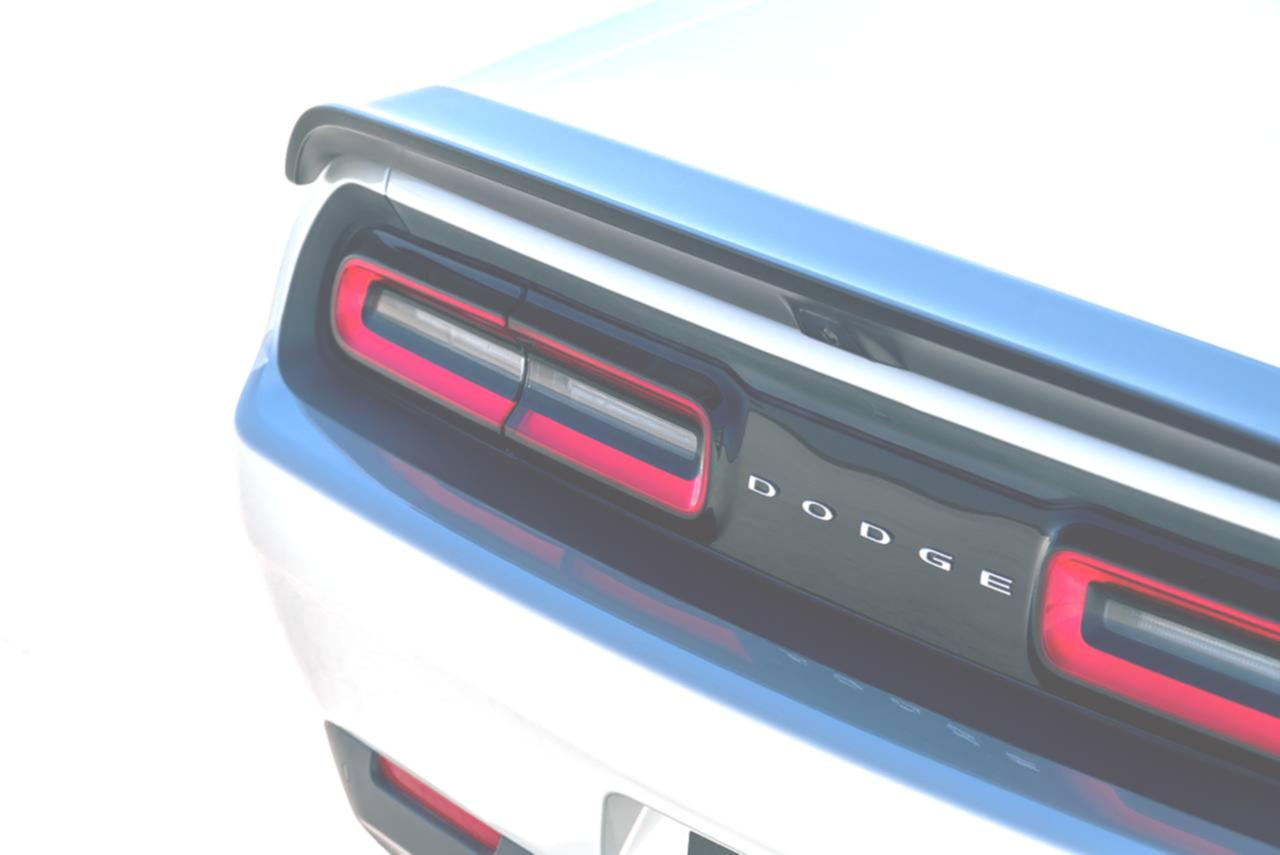dodge: (724, 447, 1026, 613)
